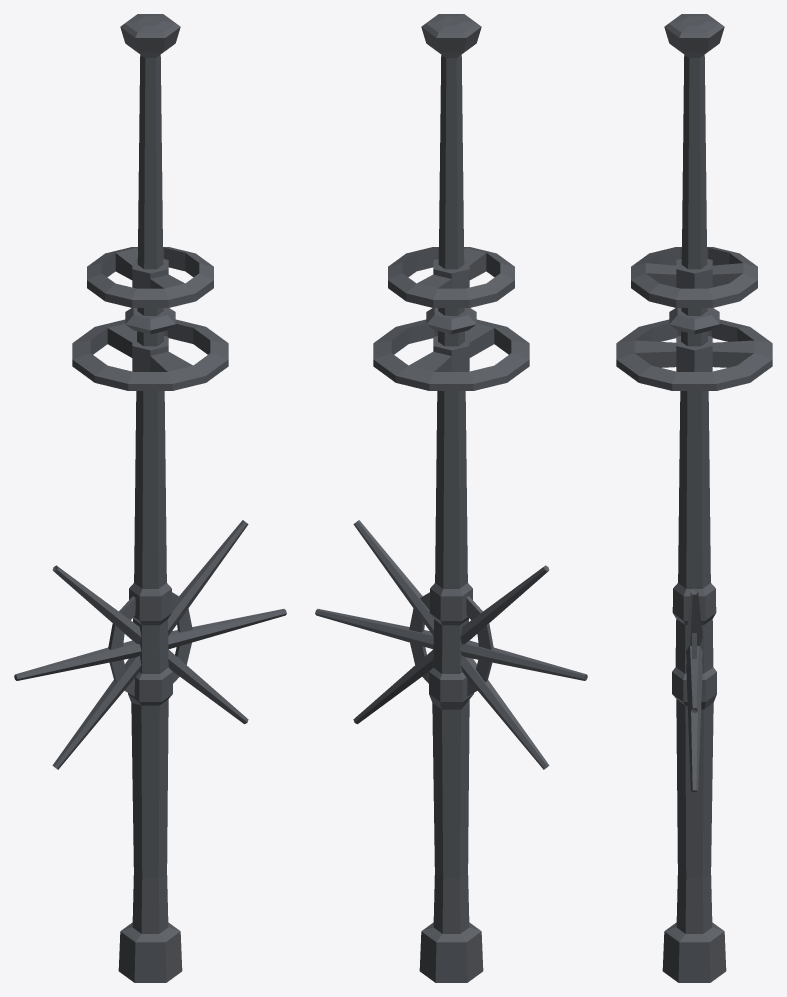
File: crypt_spire.gltf
3 views of the same model, side by side, from view 1: azimuth 30°, elevation 25°; view 2: azimuth 150°, elevation 25°; view 3: azimuth 270°, elevation 25° (orthographic).
Parts seen in each view (by area): view 1: crypt_spire; view 2: crypt_spire; view 3: crypt_spire.
Part boxes in pixels (left/top/right/bottom): crypt_spire: left=14, top=14, right=286, bottom=982; crypt_spire: left=315, top=14, right=587, bottom=982; crypt_spire: left=616, top=14, right=772, bottom=982.
Bounding box in the file's own units: 2 × 6.75 × 1.
Materials: 1 (1 with a texture image).
